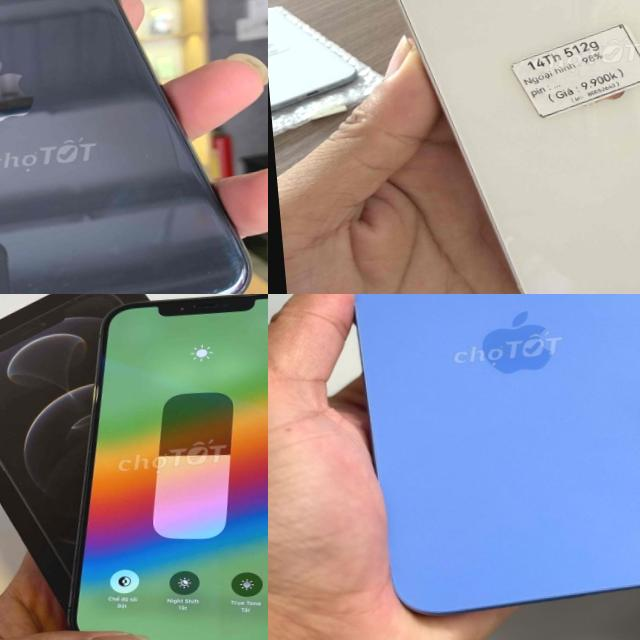gen_11: (0, 0, 248, 294)
gen_12_13: (37, 294, 268, 640)
gen_14: (356, 0, 640, 294)
gen_16: (353, 294, 640, 614)
scratch: (126, 248, 254, 294)
